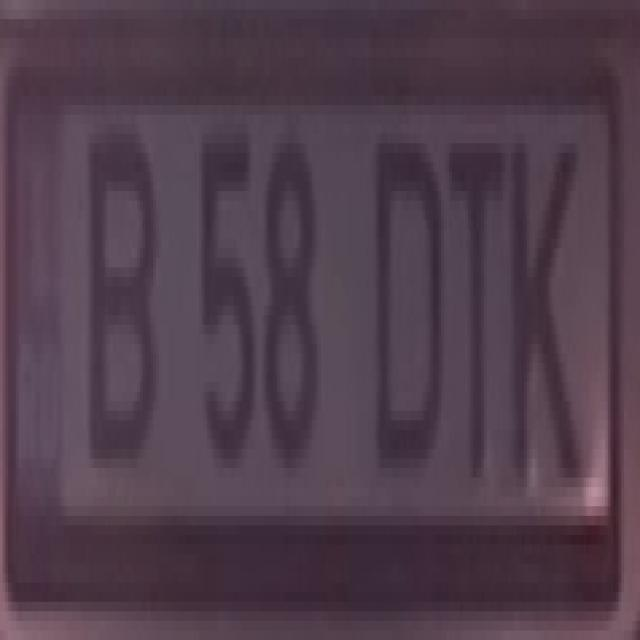EU: (9, 82, 622, 606)
Romanie: (17, 100, 64, 528)
